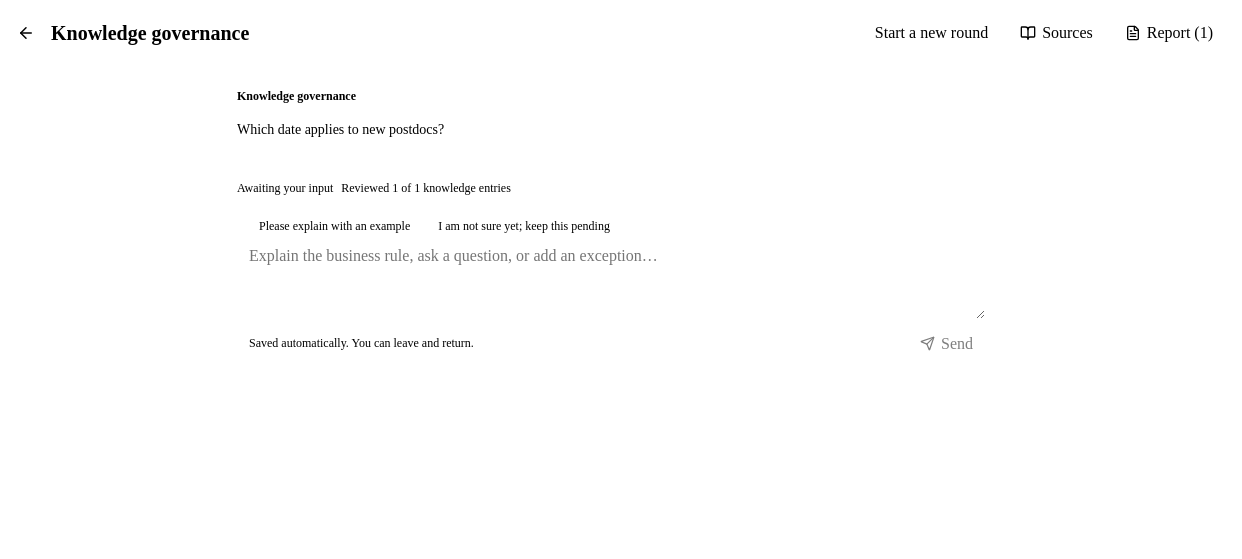
Test: governance page contract › shows a saved question, report and original source and accepts free-text clarification
Step 1. Click the button "Report (1)" → (1169, 33), box [1113,16,1225,50]
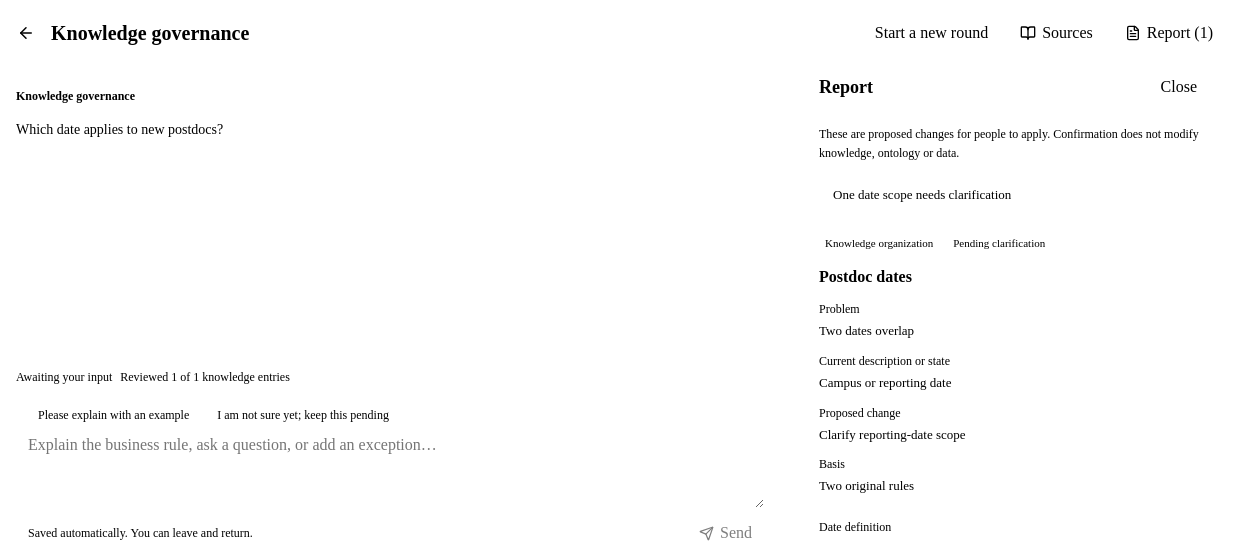
Now the text "Clarify reporting-date scope" is shown, box [819,427,966,442]
Step 2. Click the button "Date definition" → (855, 528), box [819,513,891,542]
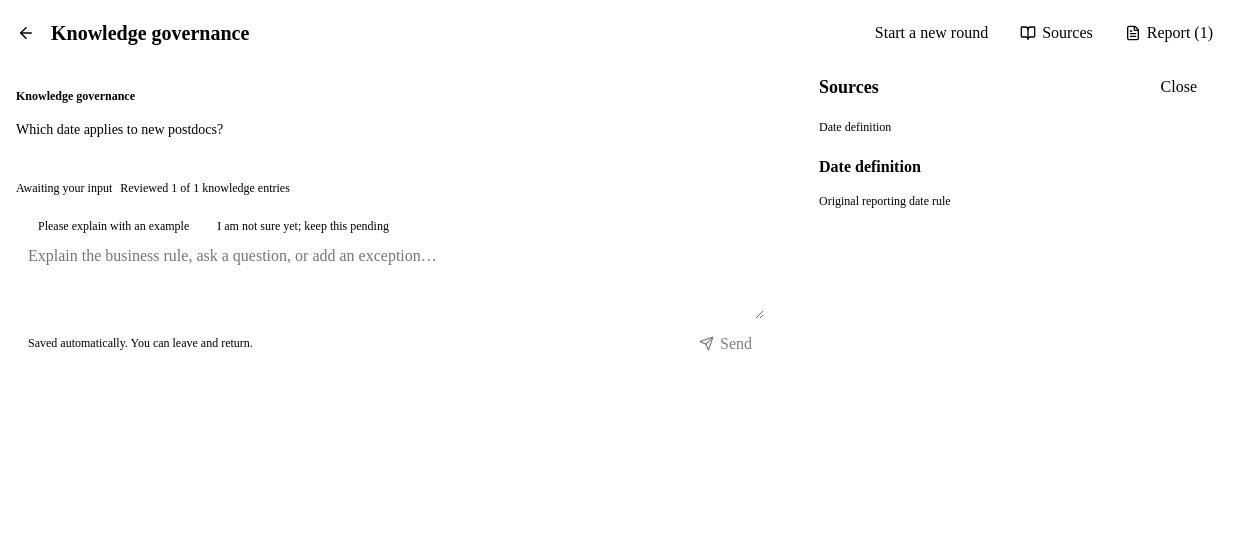
Now the text "Original reporting date rule" is shown, box [819,194,951,208]
Step 3. Replace the text in the text box with "Reporting date, but only for new postdocs." → (396, 282), box [28,246,764,318]
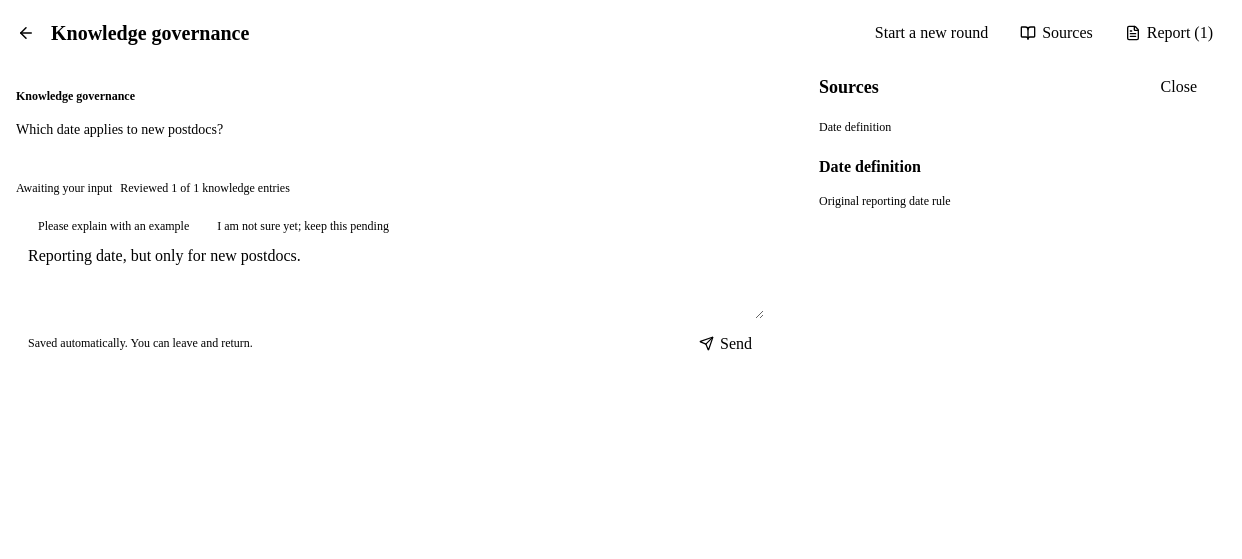
Step 4. Submit the form, box [16,204,776,370]
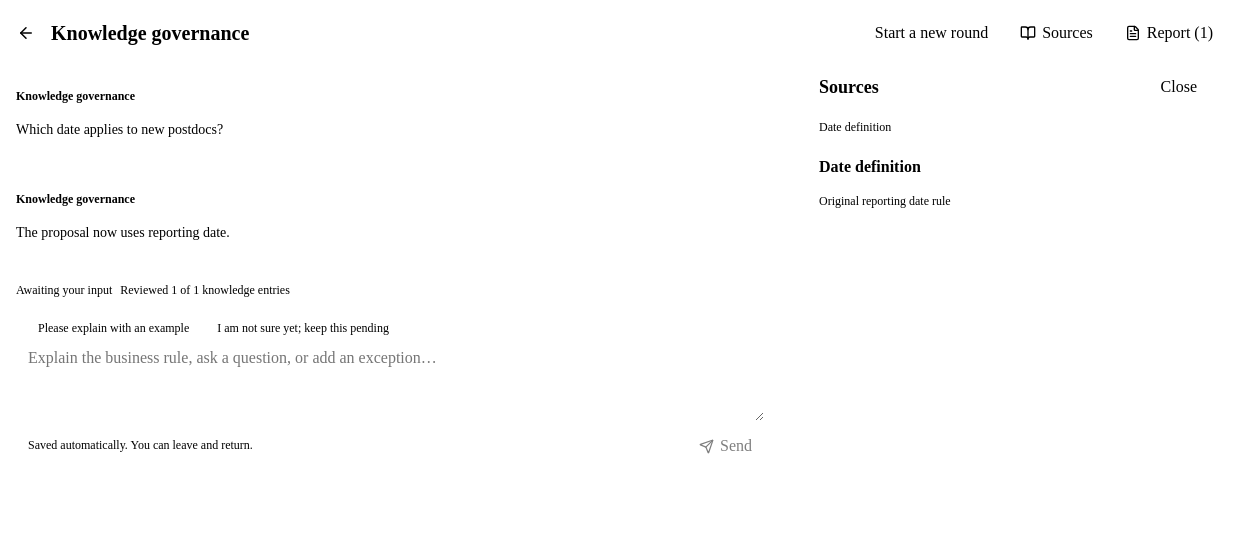
Now the text "The proposal now uses reporting date." is shown, box [16,224,230,240]
Now the text box is empty, box [28,349,764,421]
